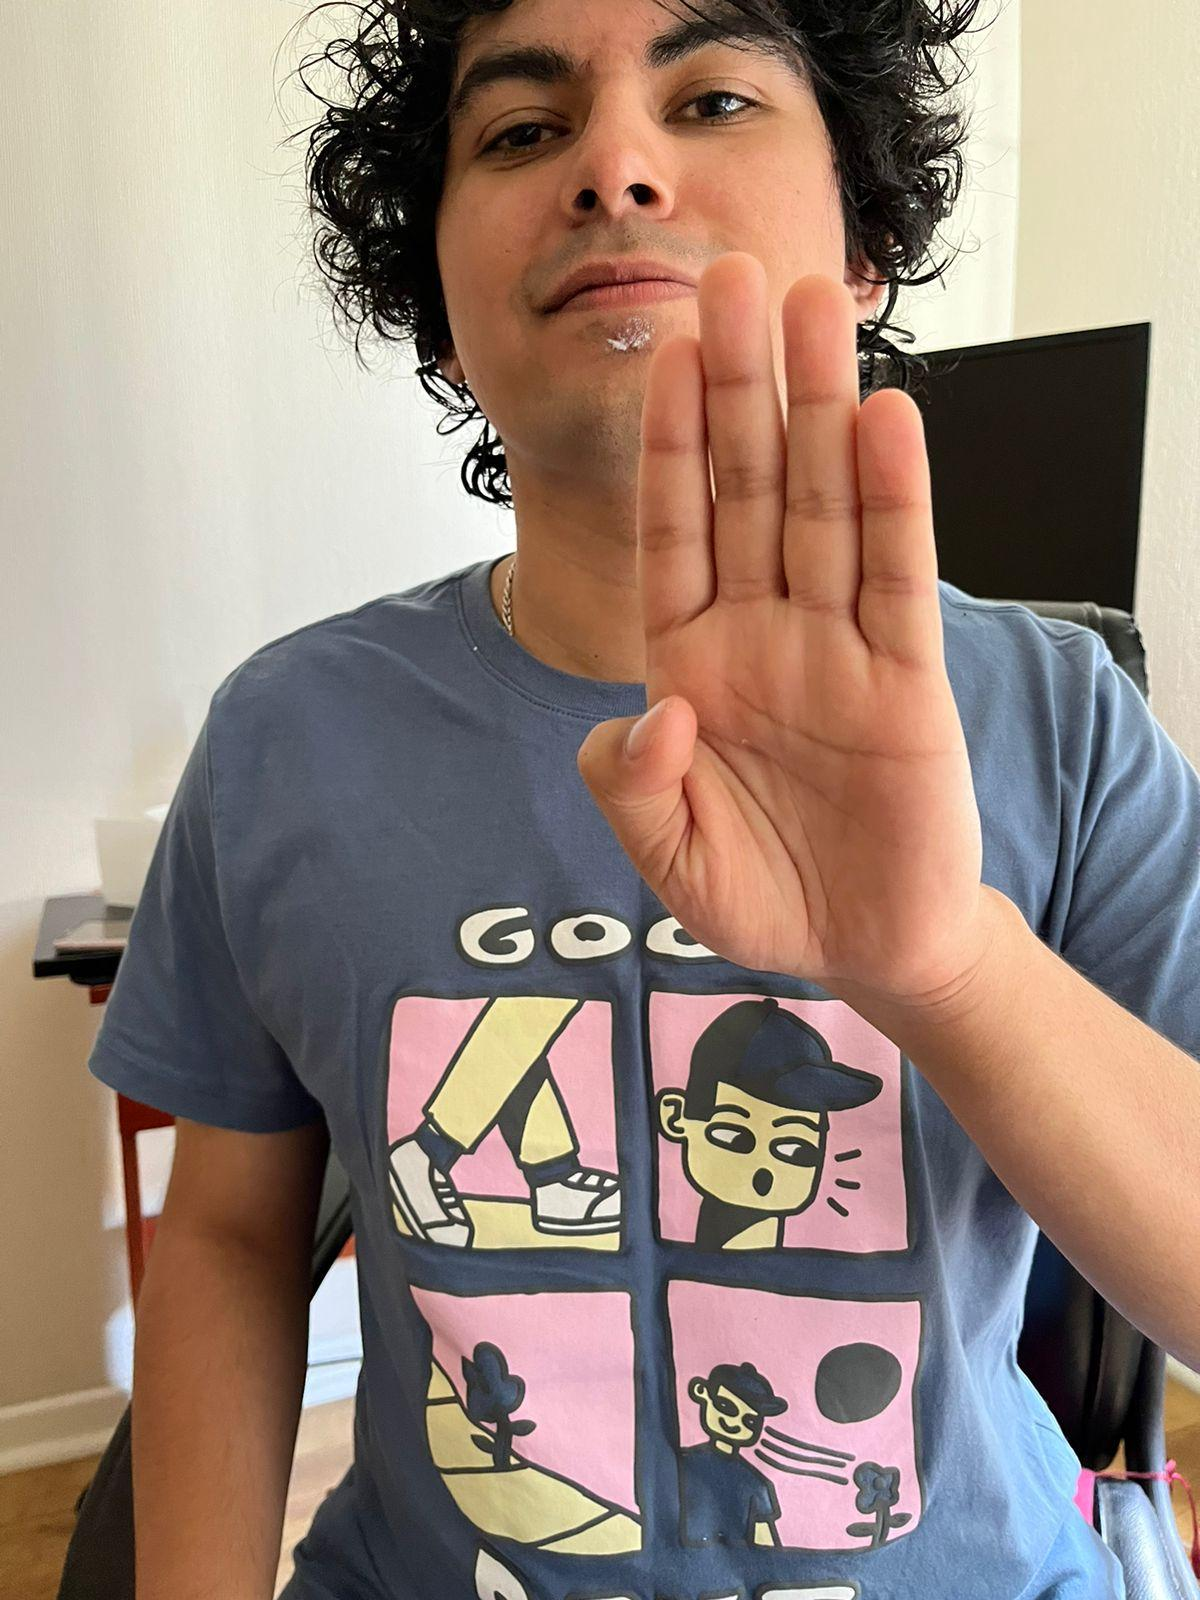B: (570, 247, 1000, 1010)
